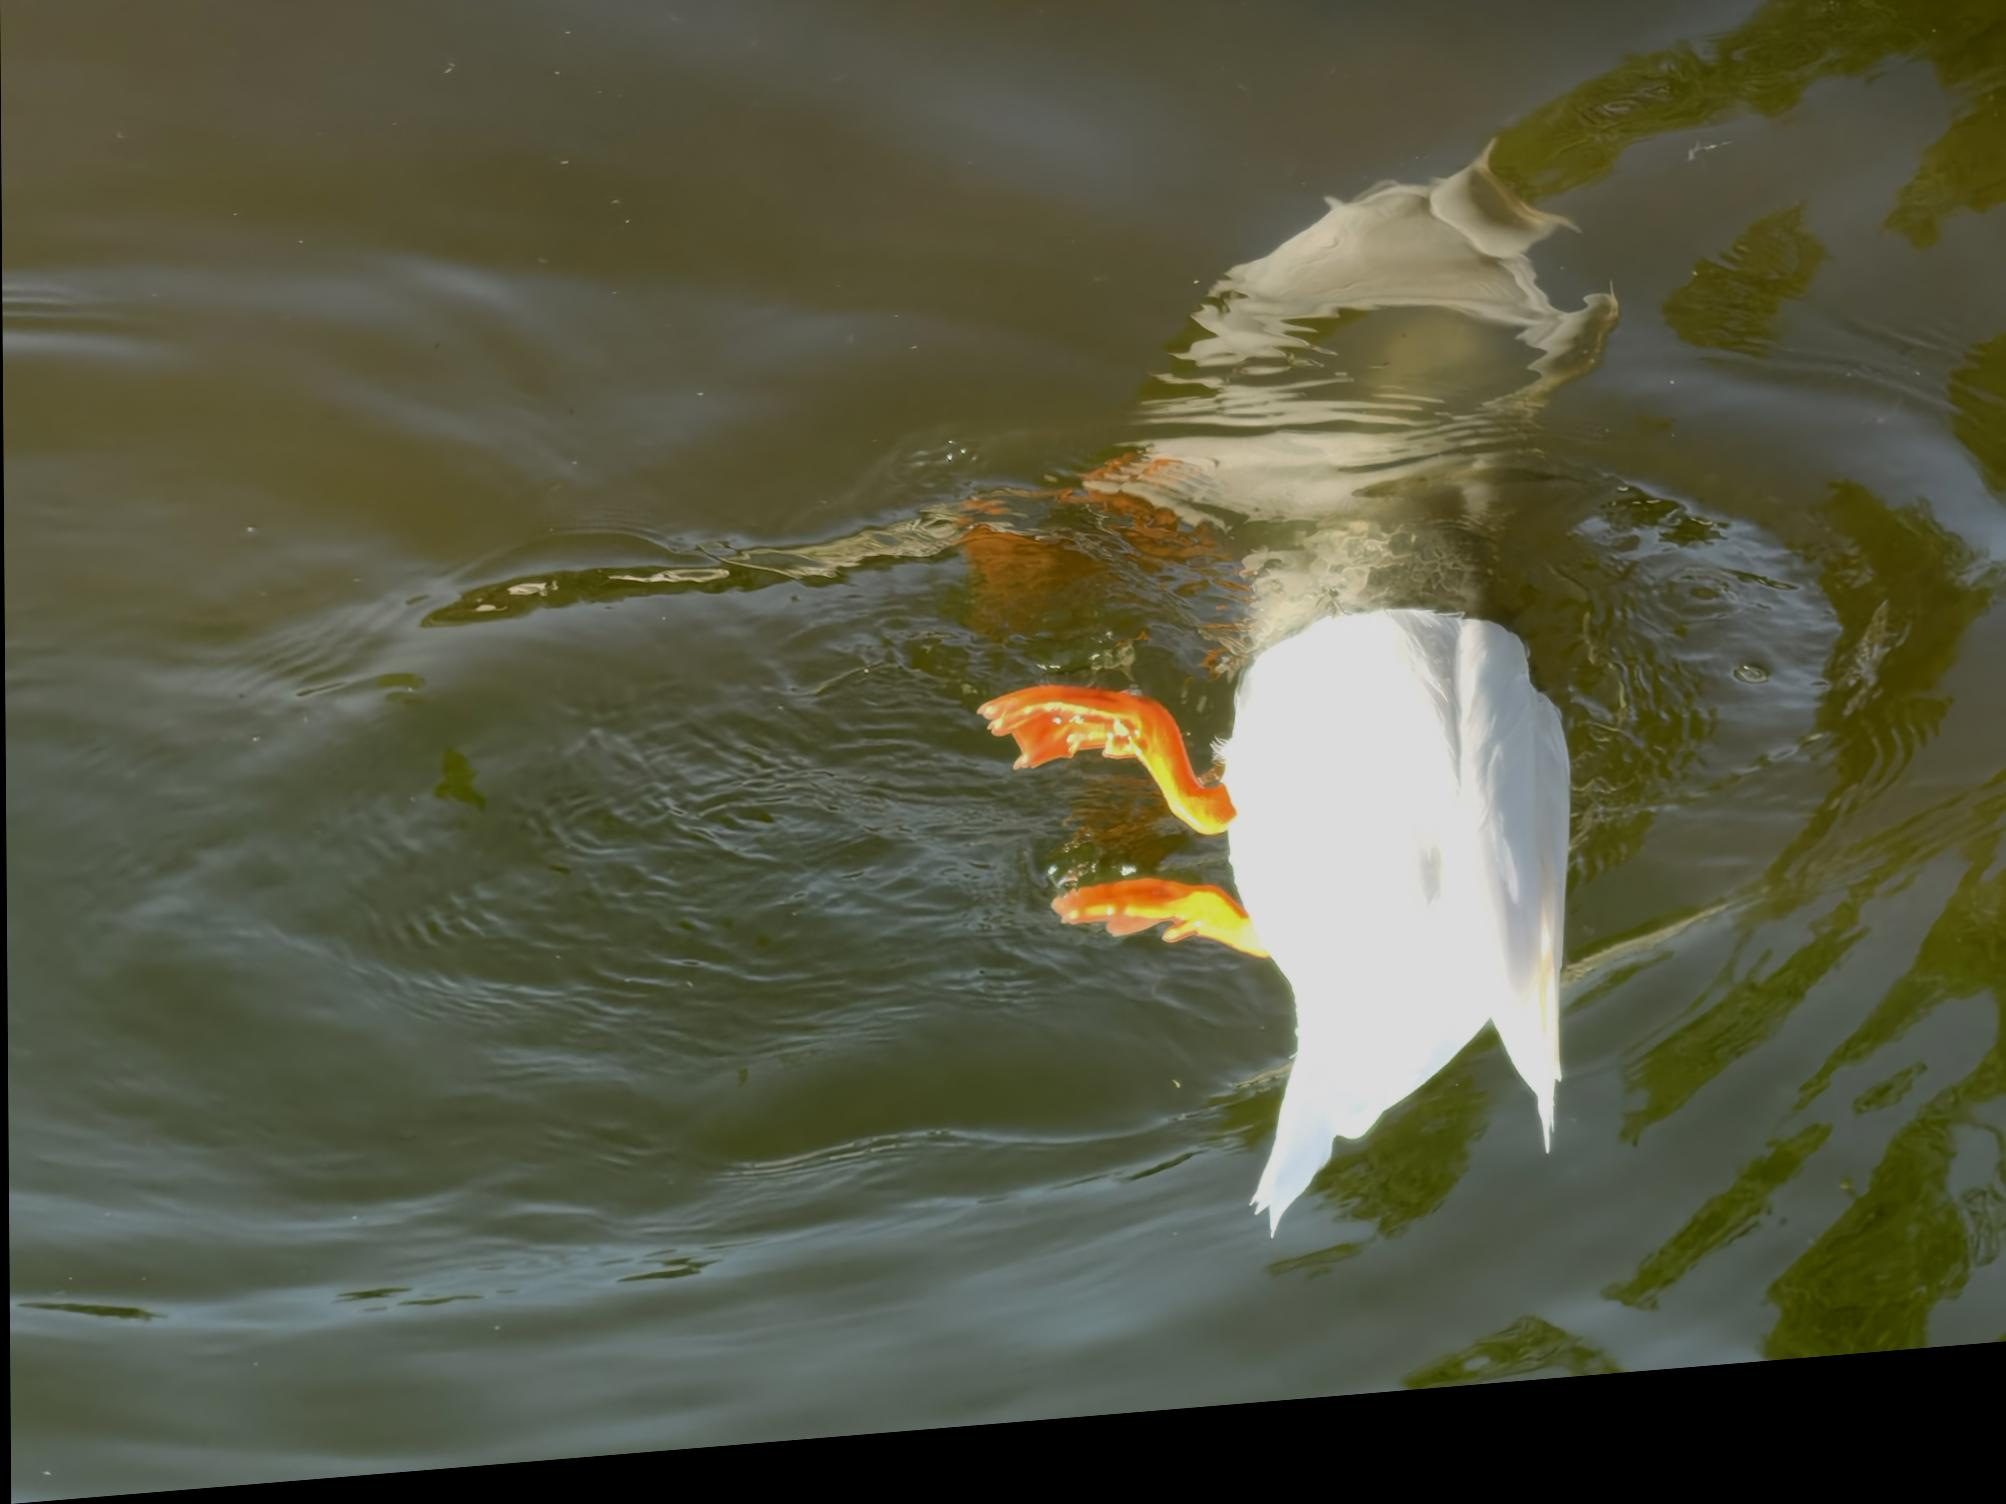duck: (968, 596, 1586, 1278)
